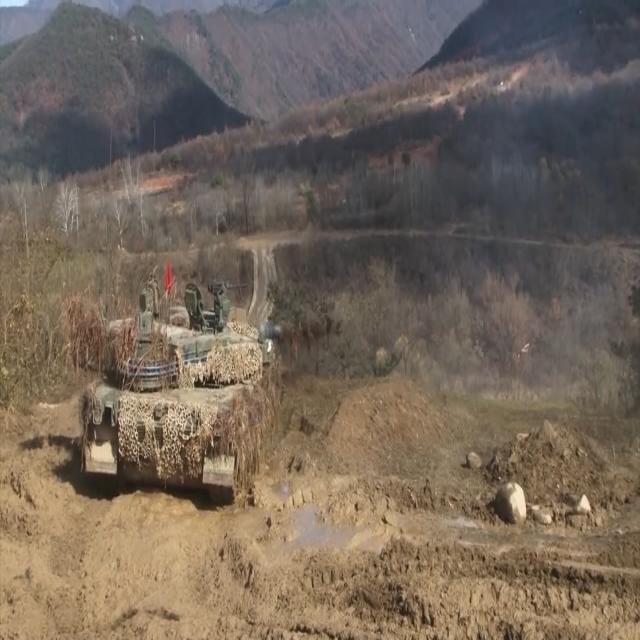korea tank: (67, 265, 334, 510)
